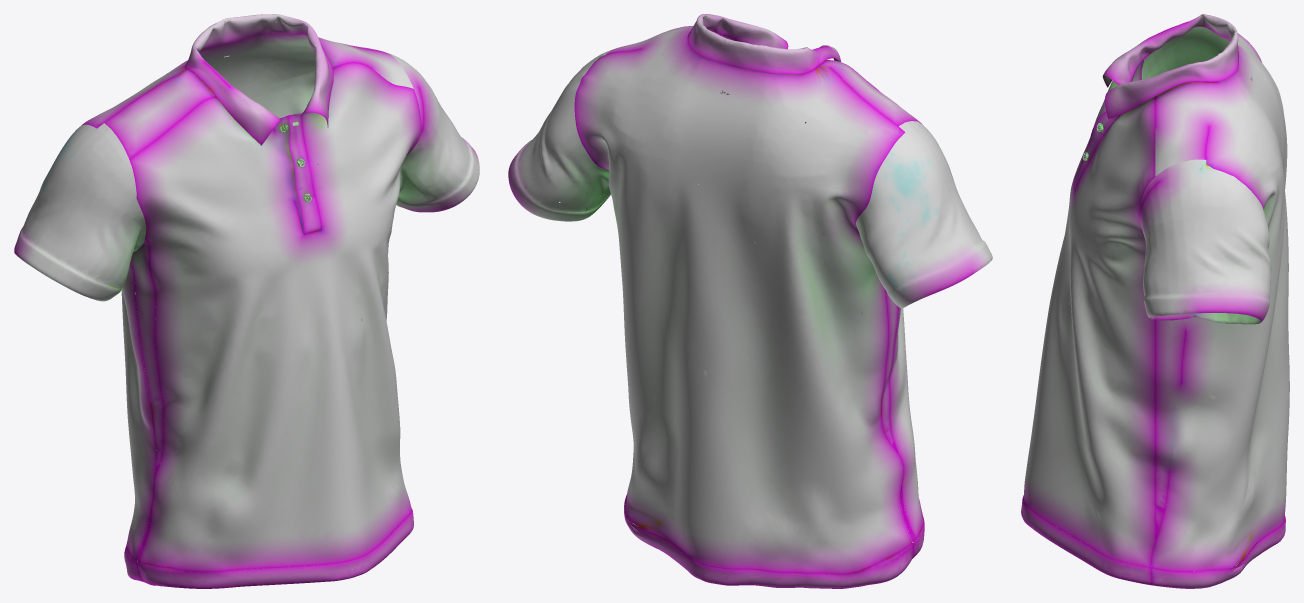
Rendered from shortshirt.glb.
3 renders of one model, left to right at view 1: azimuth 30°, elevation 25°; view 2: azimuth 150°, elevation 25°; view 3: azimuth 270°, elevation 25°, orthographic. The views are drawn at different scales.
Visible parts, largest first — view 1: front, back, sleeve_r, sleeve_l; view 2: back, sleeve_r, sleeve_l, front; view 3: back, front, sleeve_l, sleeve_r.
Part boxes in pixels (x1,y1,x2,y2): front: (129, 62, 421, 588); back: (81, 14, 413, 581); sleeve_r: (14, 123, 146, 301); sleeve_l: (388, 53, 479, 212); back: (574, 14, 921, 588); sleeve_r: (856, 121, 992, 308); sleeve_l: (508, 50, 611, 221); front: (698, 35, 924, 558); back: (1103, 14, 1289, 588); front: (1021, 59, 1155, 585); sleeve_l: (1139, 159, 1271, 324); sleeve_r: (1141, 27, 1252, 81).
Size of the model in its own units: 0.6596 by 0.72 by 0.3475.
